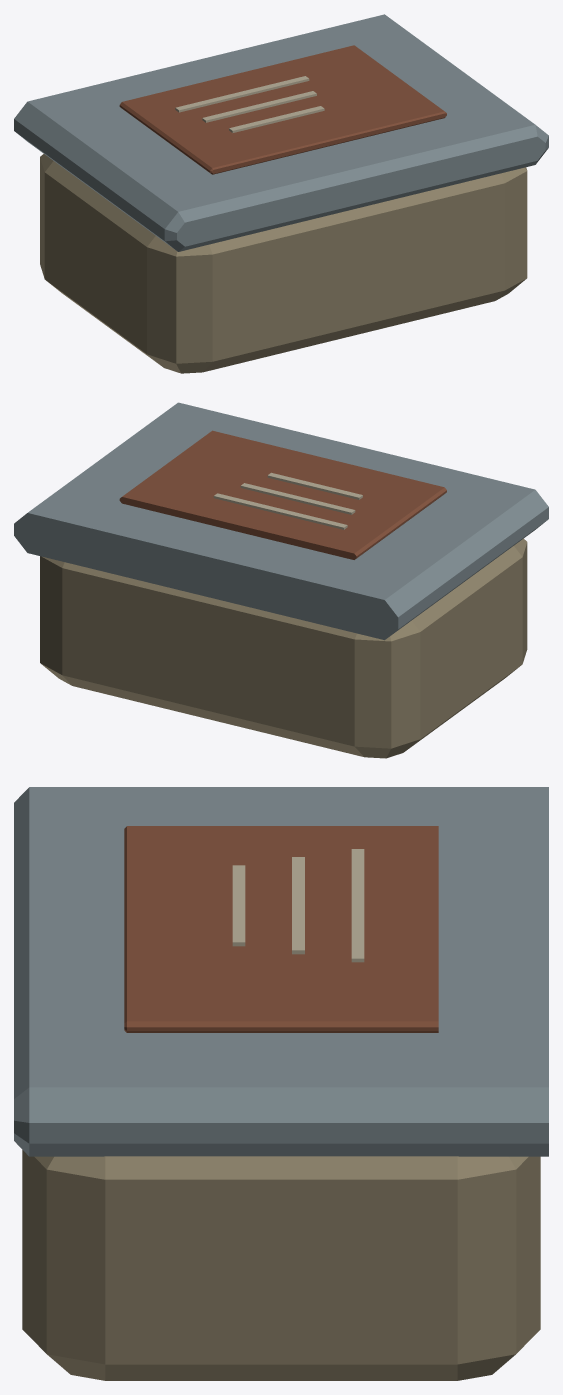
File: G-06_ration_tin.glb
3 renders of one model, top to bottom at view 1: azimuth 30°, elevation 25°; view 2: azimuth 150°, elevation 25°; view 3: azimuth 270°, elevation 25°, orthographic. The views are drawn at different scales.
Visible parts, largest first — view 1: G-06_ration_tin; view 2: G-06_ration_tin; view 3: G-06_ration_tin.
Boxes of the visible parts, x1=… form: G-06_ration_tin: x1=14, y1=14, x2=548, y2=373; G-06_ration_tin: x1=14, y1=402, x2=548, y2=758; G-06_ration_tin: x1=14, y1=787, x2=548, y2=1380.
Size of the model in its own units: 0.18 by 0.0825 by 0.126.
